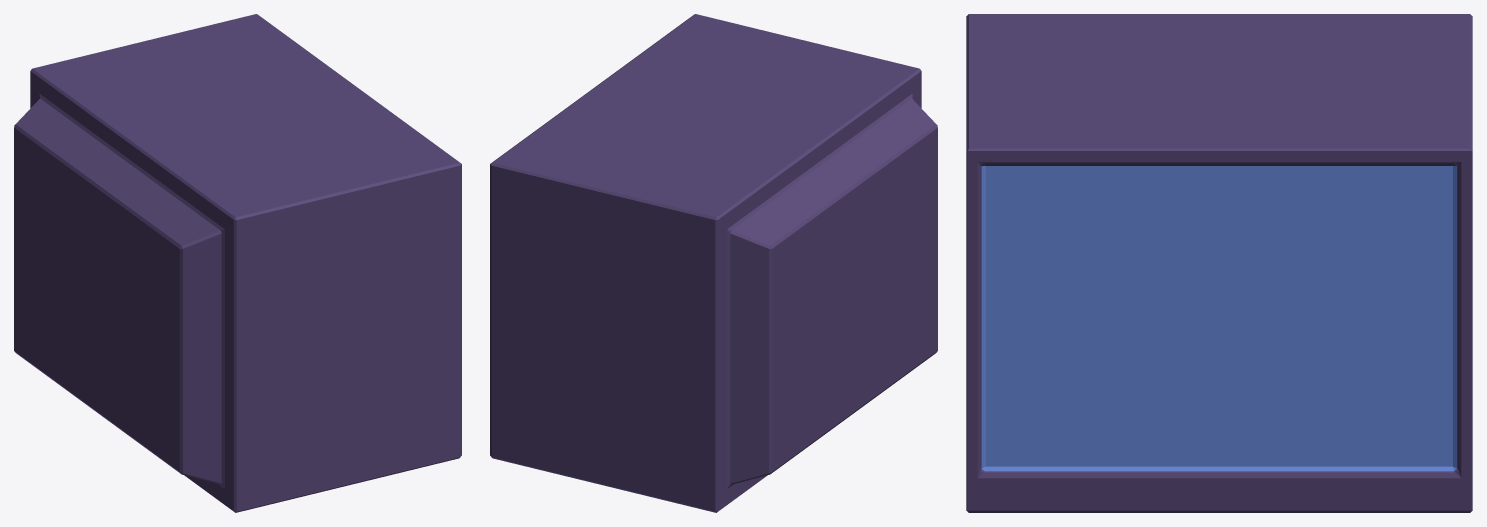
3 renders of one model, left to right at view 1: azimuth 30°, elevation 25°; view 2: azimuth 150°, elevation 25°; view 3: azimuth 270°, elevation 25°, orthographic. The views are drawn at different scales.
Parts seen in each view (by area): view 1: Tv; view 2: Tv; view 3: Tv.
Part boxes in pixels (box(x1,y1,x2,y2)): Tv: box(14, 14, 461, 512); Tv: box(490, 14, 937, 512); Tv: box(966, 14, 1472, 512).
Bounding box in the file's own units: 0.6913 × 0.7432 × 0.9365.
